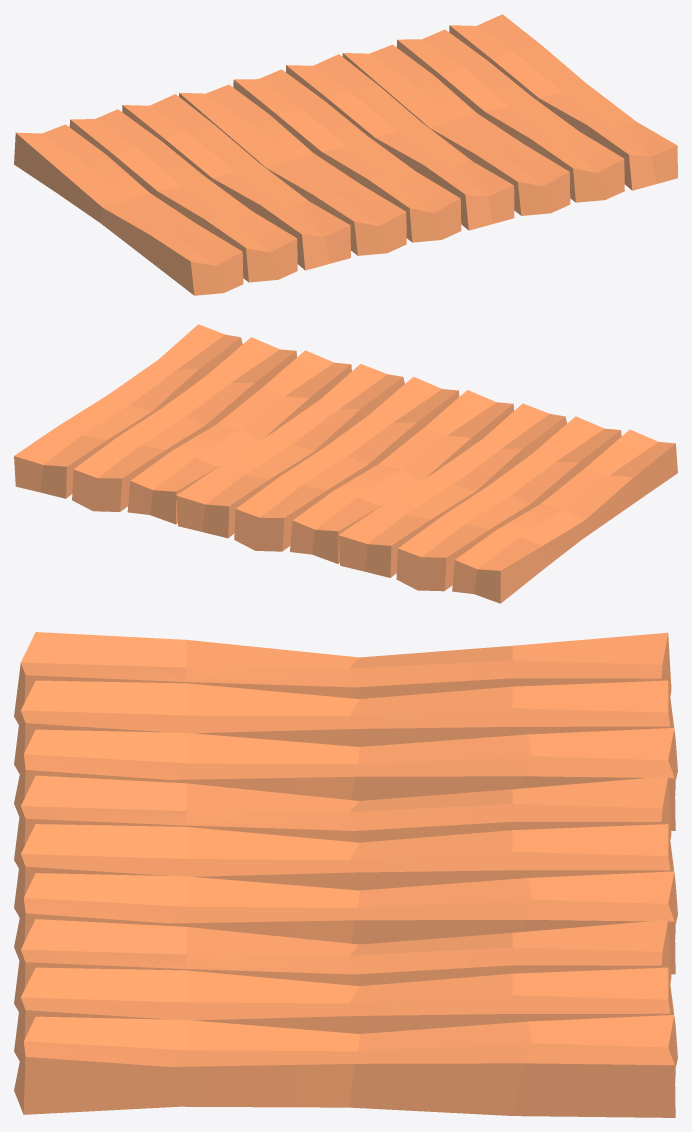
The model's file is PlatformL_Wood1.fbx.
3 views of the same model, one above another, from view 1: azimuth 30°, elevation 25°; view 2: azimuth 150°, elevation 25°; view 3: azimuth 270°, elevation 25° (orthographic). The views are drawn at different scales.
Parts seen in each view (by area): view 1: WoodPlank6__1_, WoodPlank4_1, WoodPlank4, WoodPlank4__1_, WoodPlank5, WoodPlank5__1_, WoodPlank5_1, WoodPlank6_1, WoodPlank6; view 2: WoodPlank6__1_, WoodPlank4_1, WoodPlank4__1_, WoodPlank4, WoodPlank5_1, WoodPlank5, WoodPlank5__1_, WoodPlank6, WoodPlank6_1; view 3: WoodPlank5, WoodPlank5_1, WoodPlank5__1_, WoodPlank4_1, WoodPlank4, WoodPlank4__1_, WoodPlank6_1, WoodPlank6, WoodPlank6__1_.
Part boxes in pixels (<box>): WoodPlank6__1_: <box>14,124,243,295</box>; WoodPlank4_1: <box>233,69,461,242</box>; WoodPlank4: <box>396,29,624,202</box>; WoodPlank4__1_: <box>69,109,297,282</box>; WoodPlank5: <box>449,14,677,190</box>; WoodPlank5__1_: <box>122,94,350,270</box>; WoodPlank5_1: <box>286,54,514,230</box>; WoodPlank6_1: <box>179,84,406,255</box>; WoodPlank6: <box>342,44,570,215</box>; WoodPlank6__1_: <box>452,429,677,603</box>; WoodPlank4_1: <box>234,376,459,551</box>; WoodPlank4__1_: <box>396,416,621,591</box>; WoodPlank4: <box>72,337,296,511</box>; WoodPlank5_1: <box>176,364,404,538</box>; WoodPlank5: <box>14,324,242,498</box>; WoodPlank5__1_: <box>338,403,566,577</box>; WoodPlank6: <box>127,350,351,524</box>; WoodPlank6_1: <box>290,390,513,563</box>; WoodPlank5: <box>14,1015,675,1117</box>; WoodPlank5_1: <box>14,871,675,974</box>; WoodPlank5__1_: <box>14,728,675,830</box>; WoodPlank4_1: <box>14,824,677,923</box>; WoodPlank4: <box>14,967,677,1066</box>; WoodPlank4__1_: <box>14,680,677,779</box>; WoodPlank6_1: <box>14,775,671,868</box>; WoodPlank6: <box>14,919,671,1011</box>; WoodPlank6__1_: <box>14,632,671,724</box>.
Size of the model in its own units: 606 by 44.35 by 396.
